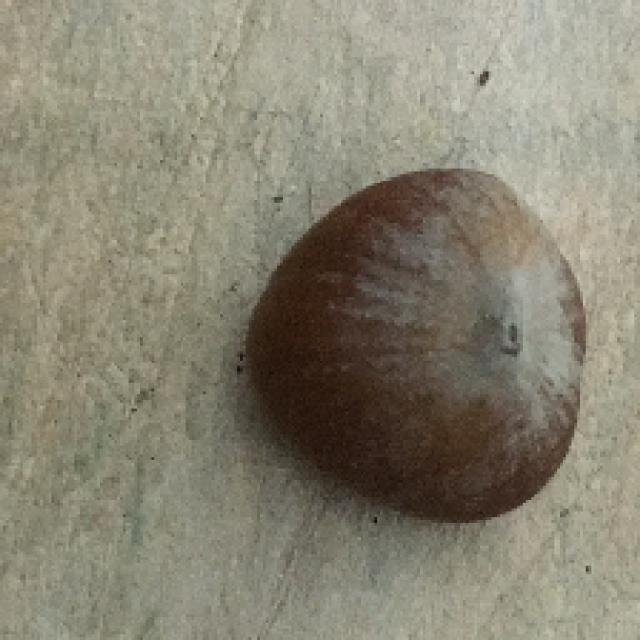damagedHazelnut: (228, 154, 588, 529)
